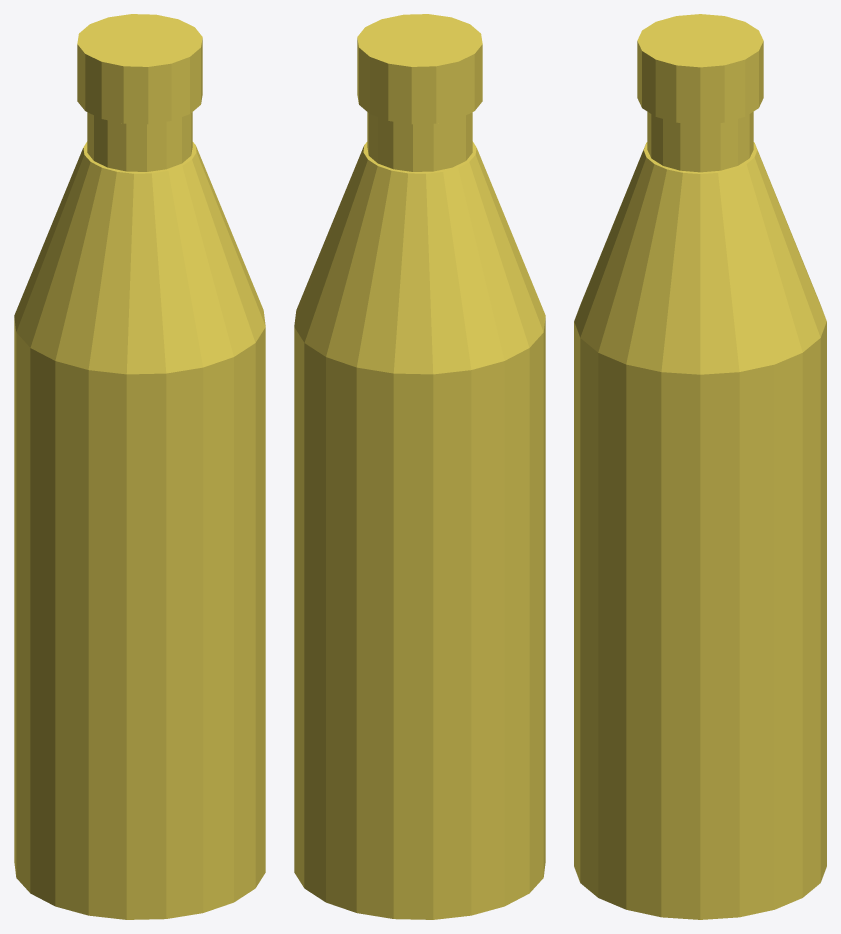
The model's file is g_oil_bottle.glb.
The picture shows the model from 3 angles, left to right: view 1: azimuth 30°, elevation 25°; view 2: azimuth 150°, elevation 25°; view 3: azimuth 270°, elevation 25°; orthographic projection.
Parts seen in each view (by area): view 1: g_oil_bottle; view 2: g_oil_bottle; view 3: g_oil_bottle.
Part boxes in pixels (bbox=[...]): g_oil_bottle: bbox=[14, 14, 265, 919]; g_oil_bottle: bbox=[294, 14, 545, 919]; g_oil_bottle: bbox=[574, 14, 826, 919].
Bounding box in the file's own units: 0.1 × 0.3605 × 0.1.
